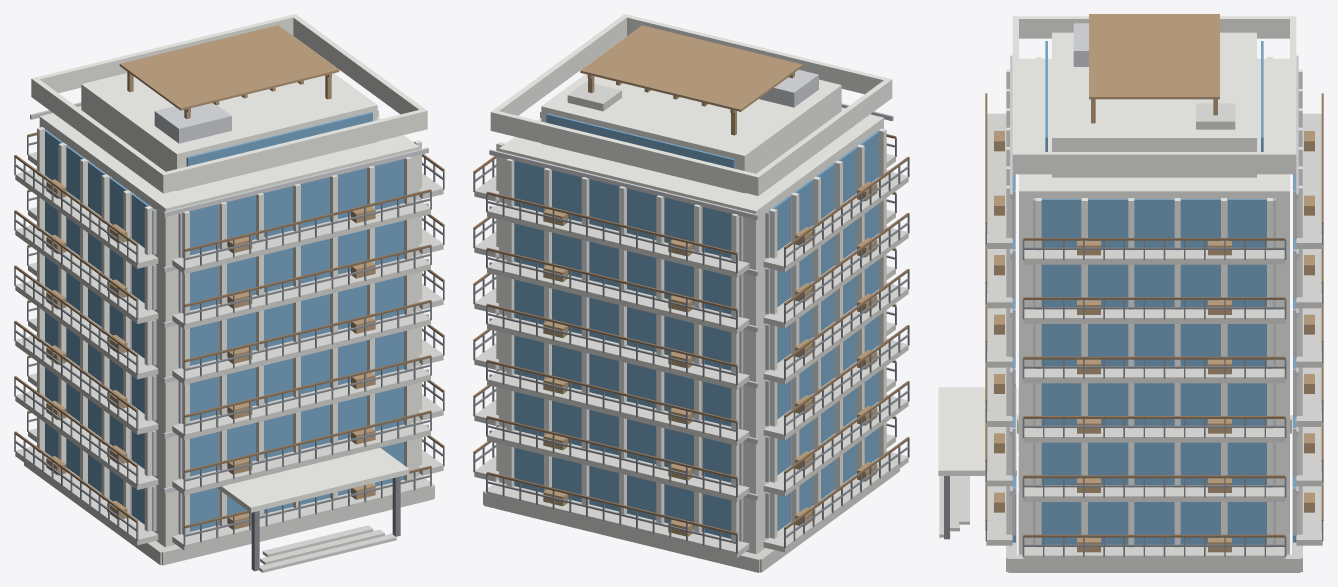
Rendered from office_b.glb.
The picture shows the model from 3 angles, left to right: view 1: azimuth 30°, elevation 25°; view 2: azimuth 150°, elevation 25°; view 3: azimuth 270°, elevation 25°; orthographic projection. The views are drawn at different scales.
Parts seen in each view (by area): view 1: B_core, B_setback, B_perg_top, B_door_S_5, B_door_S_2, B_door_S_1, B_door_S_4, B_door_S_3, B_parapet_S, B_canopy, B_slab_S_3, B_slab_S_2 (+40 smaller); view 2: B_core, B_setback, B_perg_top, B_door_N_5, B_door_N_2, B_door_N_3, B_door_N_1, B_door_N_4, B_parapet_N, B_door_N_0, B_slab_N_2, B_slab_N_1 (+38 smaller); view 3: B_core, B_setback, B_perg_top, B_door_E_5, B_door_E_4, B_door_E_1, B_door_E_0, B_door_E_3, B_door_E_2, B_parapet_E, B_canopy, B_slab_E_3 (+37 smaller).
Boxes of the visible parts, left/top/right/bottom form: B_core: left=39, top=106, right=419, bottom=546; B_setback: left=81, top=73, right=377, bottom=190; B_perg_top: left=119, top=25, right=339, bottom=110; B_door_S_5: left=189, top=159, right=403, bottom=255; B_door_S_2: left=190, top=331, right=403, bottom=421; B_door_S_1: left=190, top=386, right=403, bottom=476; B_door_S_4: left=190, top=220, right=403, bottom=310; B_door_S_3: left=190, top=276, right=403, bottom=365; B_parapet_S: left=160, top=110, right=427, bottom=193; B_canopy: left=217, top=448, right=409, bottom=512; B_slab_S_3: left=172, top=310, right=430, bottom=384; B_slab_S_2: left=172, top=365, right=430, bottom=439; B_core: left=499, top=107, right=883, bottom=554; B_setback: left=541, top=74, right=841, bottom=193; B_perg_top: left=580, top=25, right=802, bottom=111; B_door_N_5: left=514, top=161, right=732, bottom=258; B_door_N_2: left=514, top=335, right=731, bottom=426; B_door_N_3: left=514, top=279, right=731, bottom=370; B_door_N_1: left=514, top=391, right=731, bottom=482; B_door_N_4: left=514, top=223, right=731, bottom=314; B_parapet_N: left=491, top=111, right=761, bottom=195; B_door_N_0: left=514, top=447, right=731, bottom=535; B_slab_N_2: left=487, top=370, right=749, bottom=445; B_slab_N_1: left=487, top=426, right=749, bottom=501; B_core: left=1019, top=58, right=1289, bottom=554; B_setback: left=1052, top=32, right=1256, bottom=177; B_perg_top: left=1089, top=14, right=1219, bottom=99; B_door_E_5: left=1034, top=199, right=1274, bottom=247; B_door_E_4: left=1041, top=264, right=1266, bottom=306; B_door_E_1: left=1041, top=442, right=1266, bottom=484; B_door_E_0: left=1041, top=502, right=1266, bottom=544; B_door_E_3: left=1041, top=324, right=1266, bottom=366; B_door_E_2: left=1041, top=383, right=1266, bottom=425; B_parapet_E: left=1012, top=152, right=1296, bottom=174; B_canopy: left=938, top=387, right=1016, bottom=475; B_slab_E_3: left=1023, top=368, right=1285, bottom=383.
Size of what is drawn, in the model's own units: 17.5 by 22.59 by 17.65.
